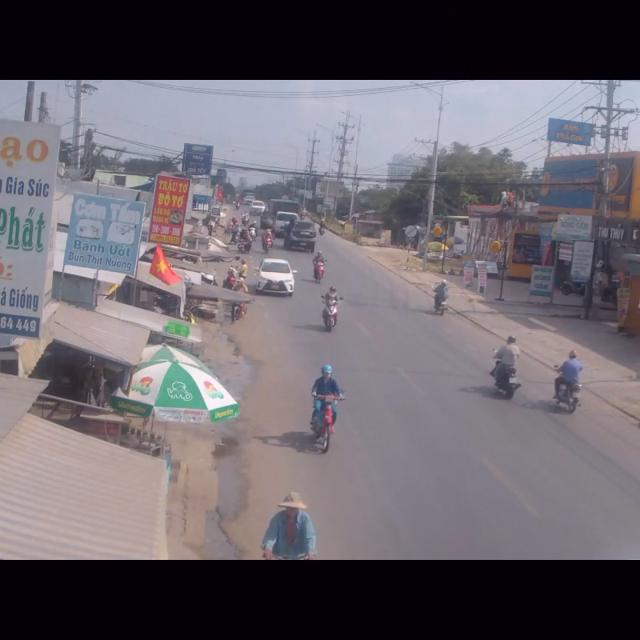car: (256, 257, 297, 297)
motorbike: (305, 363, 340, 455), (550, 348, 584, 421), (489, 334, 518, 407), (319, 280, 338, 334), (310, 248, 326, 284), (432, 275, 446, 316)
